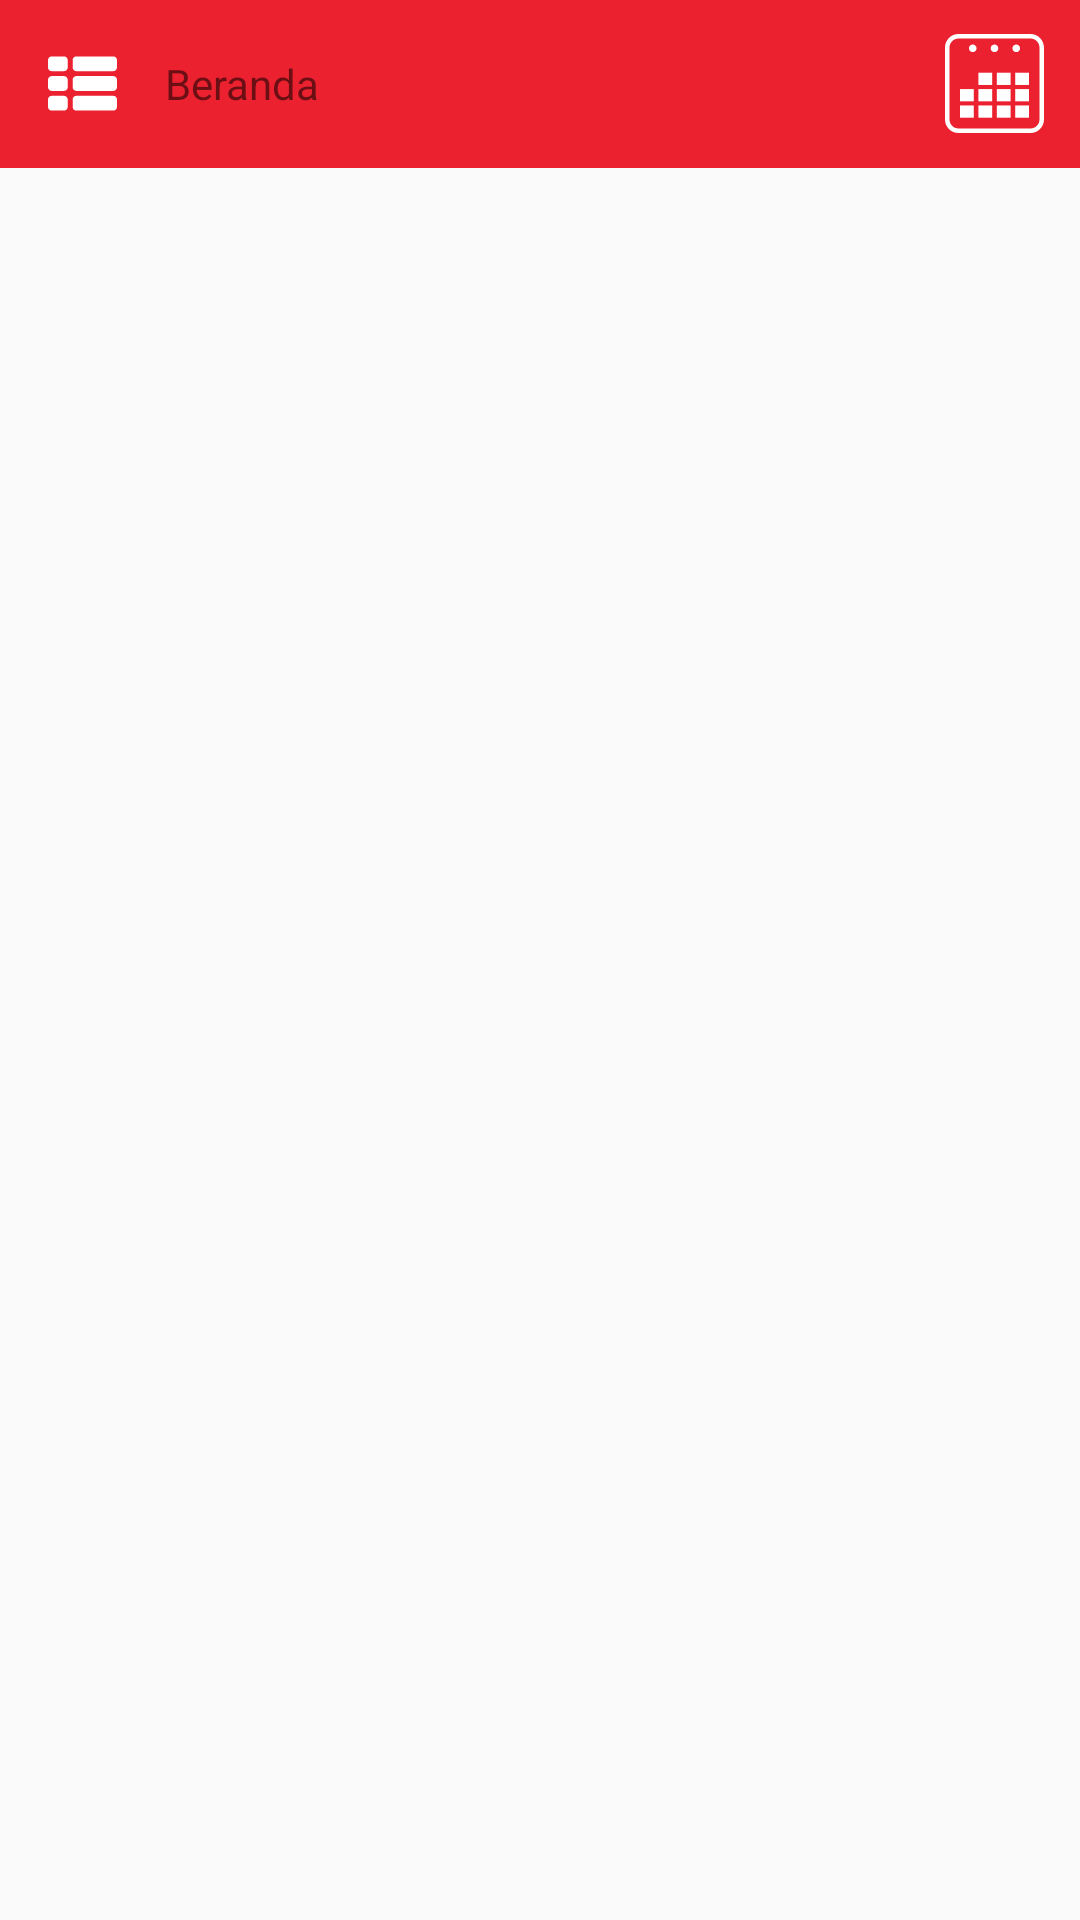

Where icons sit on this 1080px x 1920px app screen, as region(x1, y1, x2, y2):
annual calendar: region(945, 34, 1044, 133)
list: region(48, 56, 117, 111)
